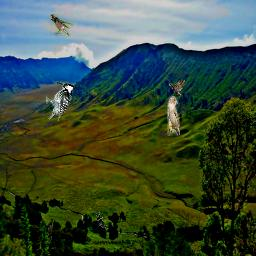Crow: (96, 212, 106, 228)
Sparrow: (167, 96, 180, 136), (169, 79, 185, 96)
Swallow: (50, 14, 74, 36)
Woodpecker: (46, 81, 74, 121)
